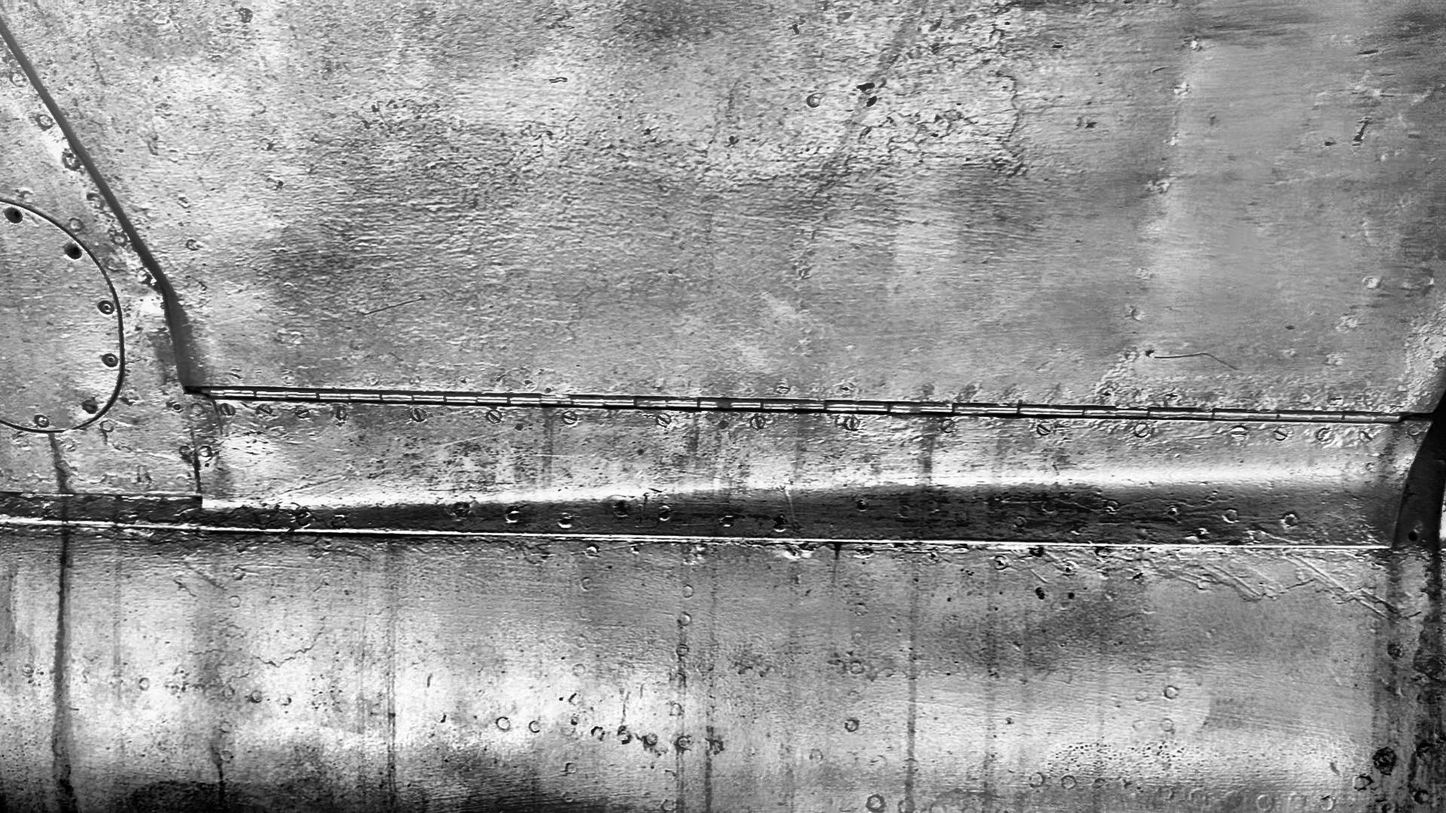dent: (121, 275, 169, 321)
missing-head: (8, 206, 23, 226), (65, 245, 81, 259)
paint-peel-off: (1356, 119, 1369, 140), (857, 82, 876, 90), (867, 95, 877, 109)
scratch: (1289, 555, 1383, 616), (1211, 565, 1261, 598), (360, 296, 427, 316), (1156, 353, 1237, 369), (781, 486, 803, 536), (481, 502, 531, 522), (1285, 578, 1317, 591), (1028, 567, 1050, 584)
